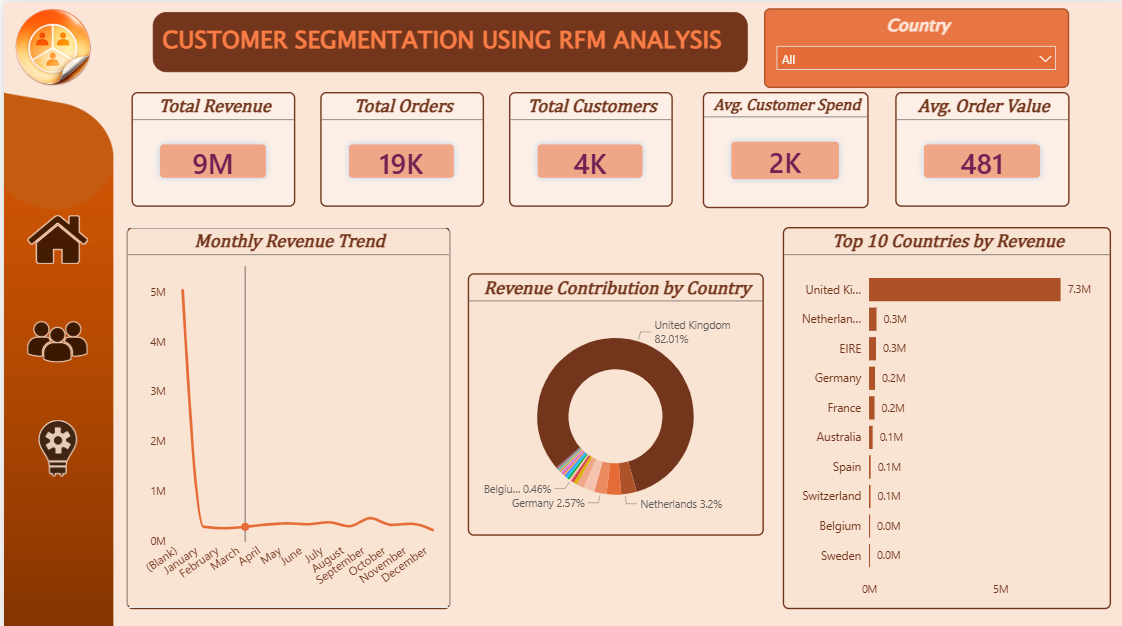

The dashboard page shown, as its layout file describes it:
{"tool":"powerbi","page":{"name":"Customer Overview","canvas":[1280,720],"ordinal":0},"visuals":[{"type":"cardVisual","title":"Total Revenue","fields":{"Data":["data.Total Revenue"]},"box":[145.7,102.9,187.1,131.4],"z":0},{"type":"cardVisual","title":"Total Orders","fields":{"Data":["data.Total Orders"]},"box":[360.7,102.5,187,131.5],"z":1000},{"type":"cardVisual","title":"Avg. Customer Spend","fields":{"Data":["data.Avg Customer Spend"]},"box":[798.7,102.5,189.4,132.7],"z":2000},{"type":"cardVisual","title":"Avg. Order Value","fields":{"Data":["data.AOV"]},"box":[1018.2,102.5,199.1,131.5],"z":3000},{"type":"cardVisual","title":"Total Customers","fields":{"Data":["data.Total Customers"]},"box":[576.7,102.5,187,131.5],"z":4000},{"type":"lineChart","title":"Monthly Revenue Trend","fields":{"Category":["data.InvoiceDate.Variation.Date Hierarchy.Month"],"Y":["Sum(data.Revenue)"]},"box":[140,256.7,370,436.7],"z":5000},{"type":"clusteredBarChart","title":"Top 10 Countries by Revenue","fields":{"Category":["data.Country"],"Y":["Sum(data.Revenue)"]},"box":[890,256.7,375,436.7],"z":6000},{"type":"donutChart","title":"Revenue Contribution by Country","fields":{"Category":["data.Country"],"Y":["Sum(data.Revenue)"]},"box":[530,310,338.3,300],"z":7000},{"type":"slicer","title":"Country","fields":{"Values":["data.Country"]},"box":[868.6,7.1,348.6,91.4],"z":8000},{"type":"image","box":[24.3,234.3,74.3,74.3],"z":9000},{"type":"image","box":[23.8,337.5,73.8,102.5],"z":10000},{"type":"image","box":[11.4,475.7,100,68.6],"z":11000},{"type":"image","box":[0,0,111.1,102.2],"z":12000},{"type":"textbox","box":[170,11.4,680,68.6],"z":13000}]}

Visuals, with their boxes in screenshot pixels (x1, y1, x2, y2), scaled from the page's 1280x720 canvas onto the 1122x626 screenshot:
"Total Revenue" cardVisual: [x1=128, y1=89, x2=292, y2=204]
"Total Orders" cardVisual: [x1=316, y1=89, x2=480, y2=203]
"Avg. Customer Spend" cardVisual: [x1=700, y1=89, x2=866, y2=204]
"Avg. Order Value" cardVisual: [x1=893, y1=89, x2=1067, y2=203]
"Total Customers" cardVisual: [x1=506, y1=89, x2=669, y2=203]
"Monthly Revenue Trend" lineChart: [x1=123, y1=223, x2=447, y2=603]
"Top 10 Countries by Revenue" clusteredBarChart: [x1=780, y1=223, x2=1109, y2=603]
"Revenue Contribution by Country" donutChart: [x1=465, y1=270, x2=761, y2=530]
"Country" slicer: [x1=761, y1=6, x2=1067, y2=86]
image: [x1=21, y1=204, x2=86, y2=268]
image: [x1=21, y1=293, x2=86, y2=383]
image: [x1=10, y1=414, x2=98, y2=473]
image: [x1=0, y1=0, x2=97, y2=89]
textbox: [x1=149, y1=10, x2=745, y2=70]
